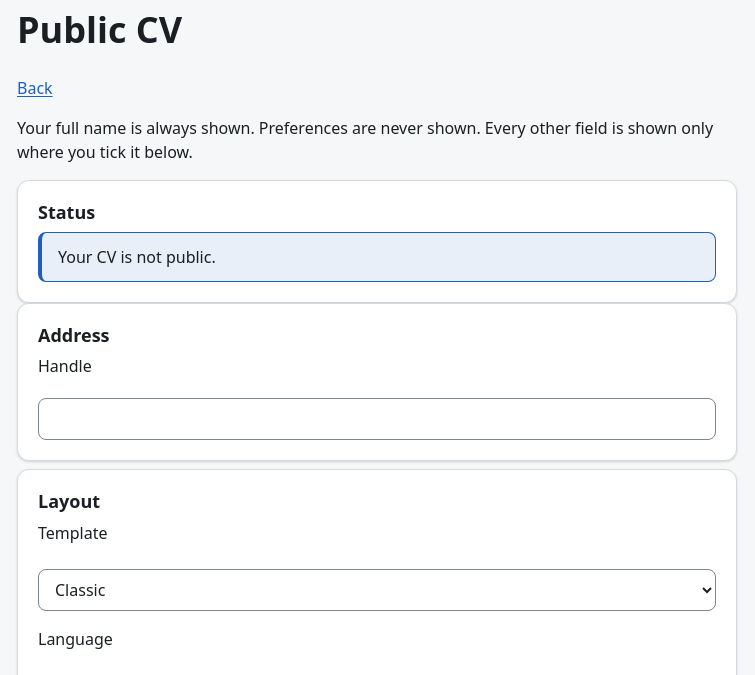
it: the public CV page › shows the reason when the handle is taken
The image size is (755, 675).
Type "ada-example" into the field labelled "Handle" at (377, 419), box left=38, top=398, right=716, bottom=440
Wait 400 ms
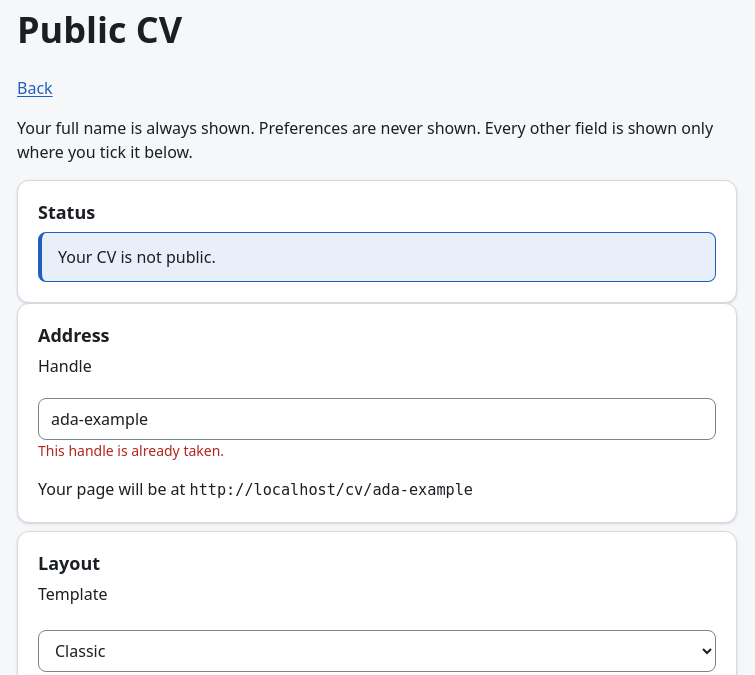
Check: the text "This handle is already taken." is shown, box left=38, top=441, right=224, bottom=460
